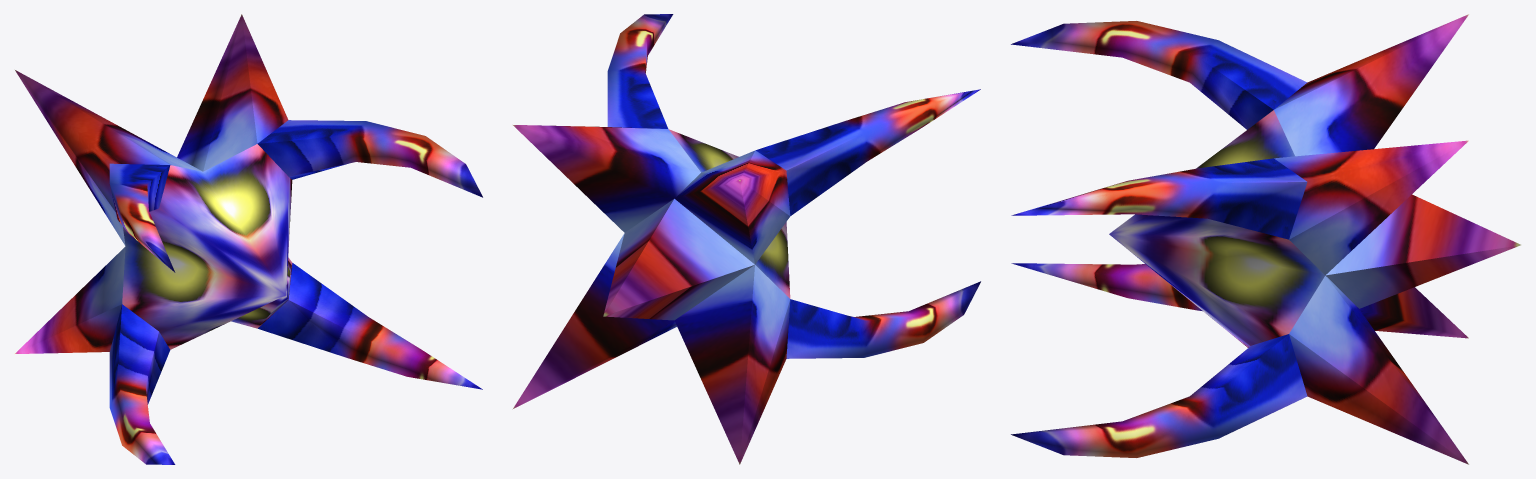
The model's file is ship-69.fbx.
3 renders of one model, left to right at view 1: azimuth 30°, elevation 25°; view 2: azimuth 150°, elevation 25°; view 3: azimuth 270°, elevation 25°, orthographic. The views are drawn at different scales.
Parts seen in each view (by area): view 1: ship-69; view 2: ship-69; view 3: ship-69.
Part boxes in pixels (x1,y1,x2,y2): ship-69: (15, 14, 482, 464); ship-69: (512, 14, 980, 464); ship-69: (1011, 14, 1520, 464).
Size of the model in its own units: 28.85 by 24.53 by 35.03.
